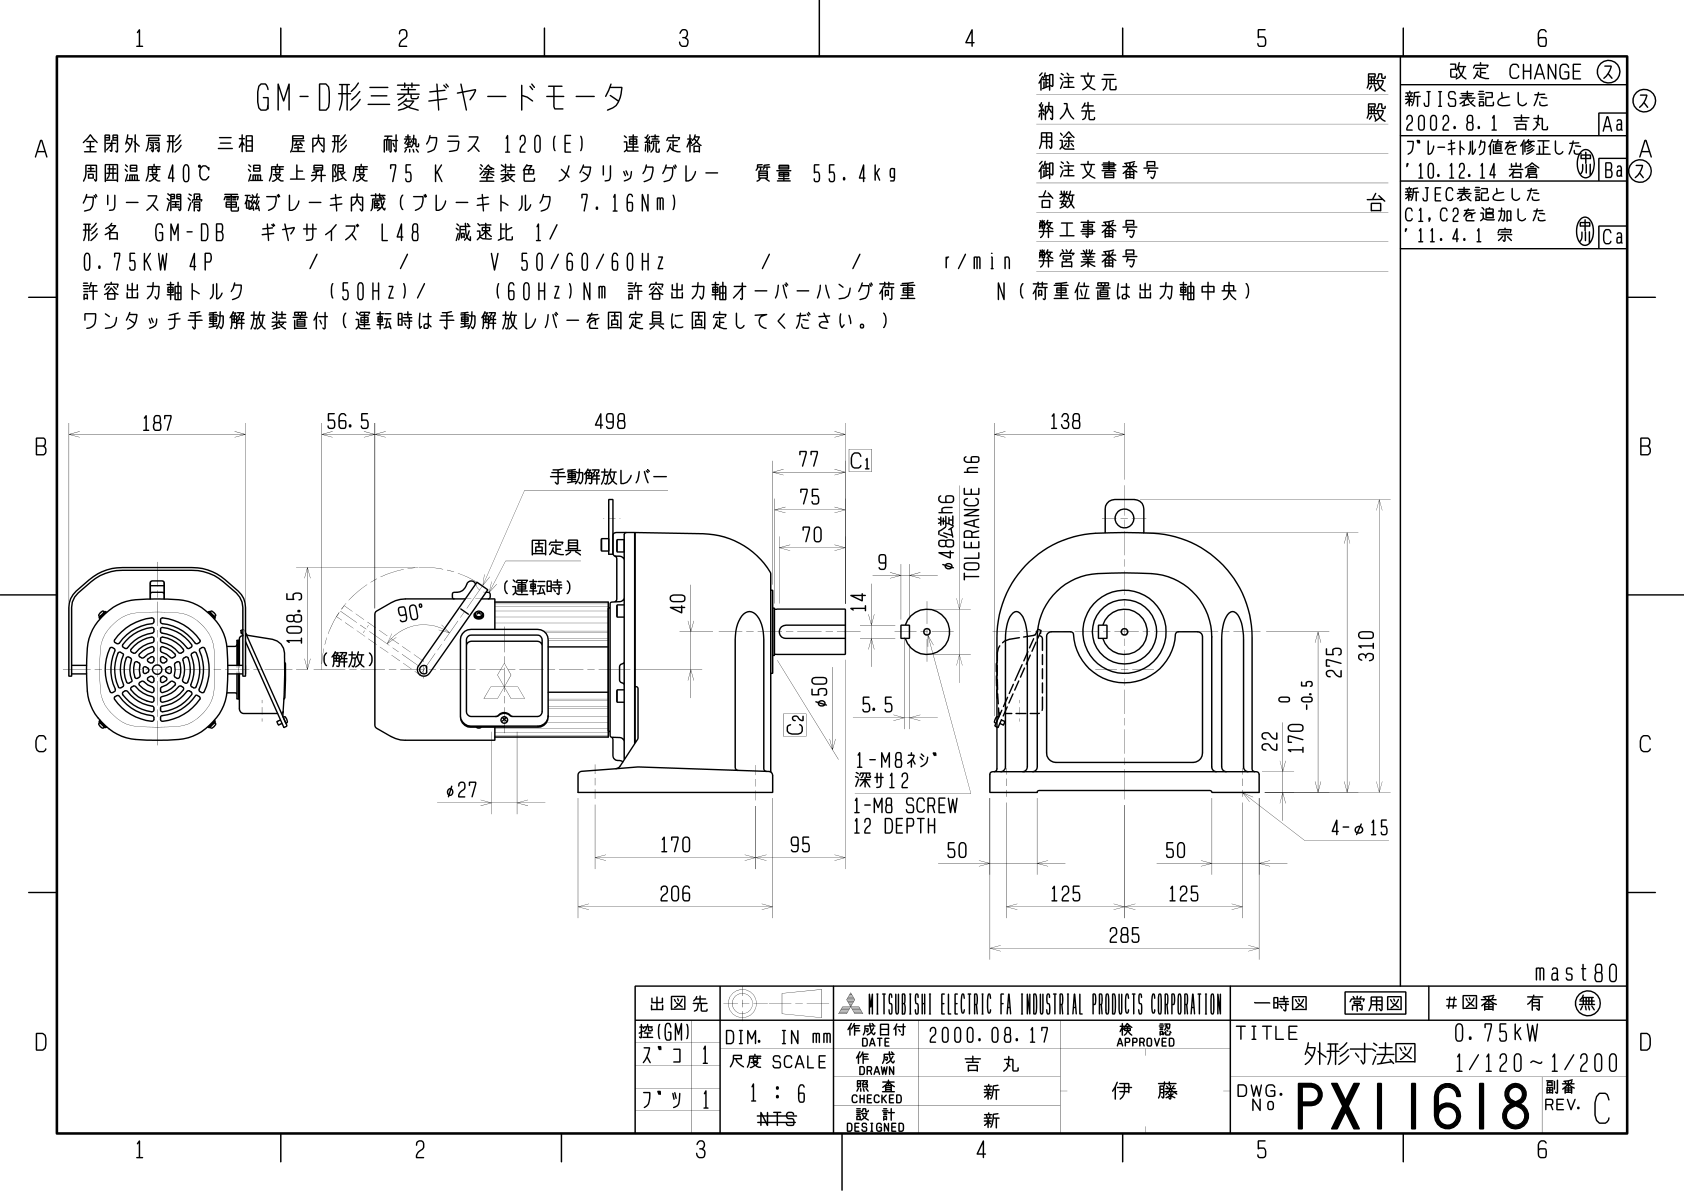GM_D_手動解放ブレーキ＿三相_脚: (61, 369, 1392, 971)
